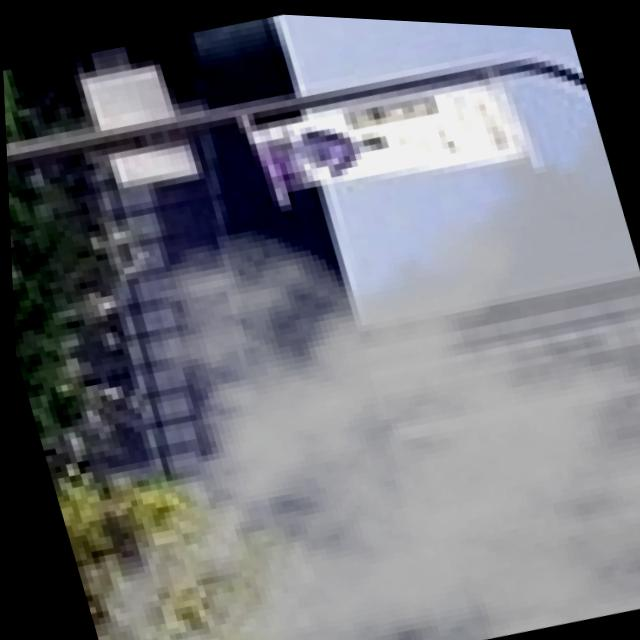smoke: (2, 52, 640, 640)
